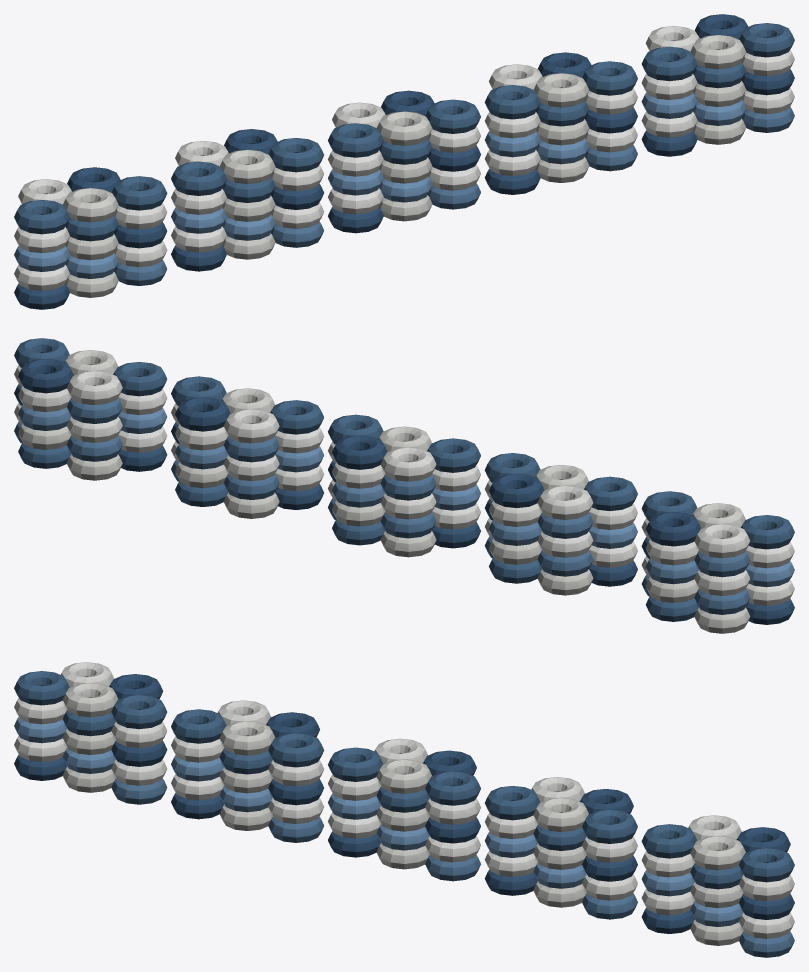
Rendered from barrier_tire_navy_white_02_double_strip5.glb.
3 views of the same model, one above another, from view 1: azimuth 30°, elevation 25°; view 2: azimuth 150°, elevation 25°; view 3: azimuth 330°, elevation 25° (orthographic).
Parts seen in each view (by area): view 1: barrier_tire_navy_white_02_double_strip5; view 2: barrier_tire_navy_white_02_double_strip5; view 3: barrier_tire_navy_white_02_double_strip5.
Boxes of the visible parts, bbox=[...] form: barrier_tire_navy_white_02_double_strip5: bbox=[14, 14, 794, 309]; barrier_tire_navy_white_02_double_strip5: bbox=[14, 338, 794, 633]; barrier_tire_navy_white_02_double_strip5: bbox=[14, 662, 794, 957].
Bounding box in the file's own units: 9.86 × 1.15 × 1.07.
